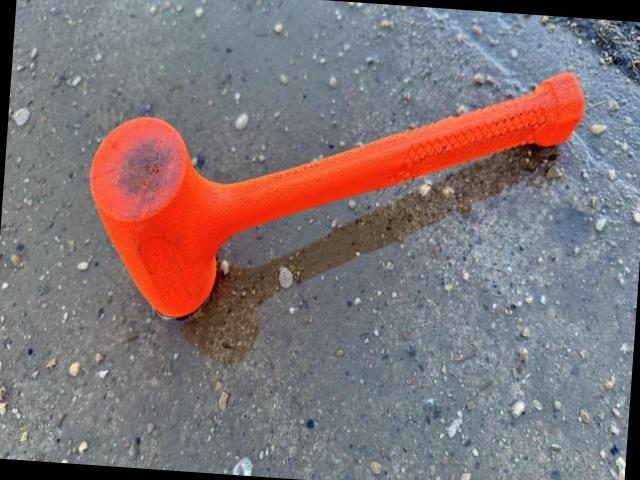hammer: (79, 37, 586, 346)
